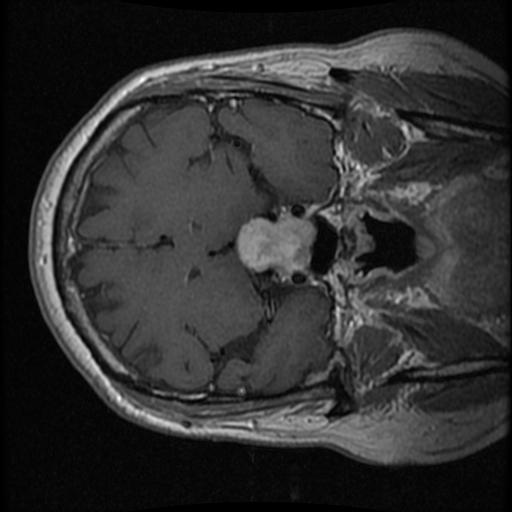pituitary tumour: (237, 214, 311, 274)
